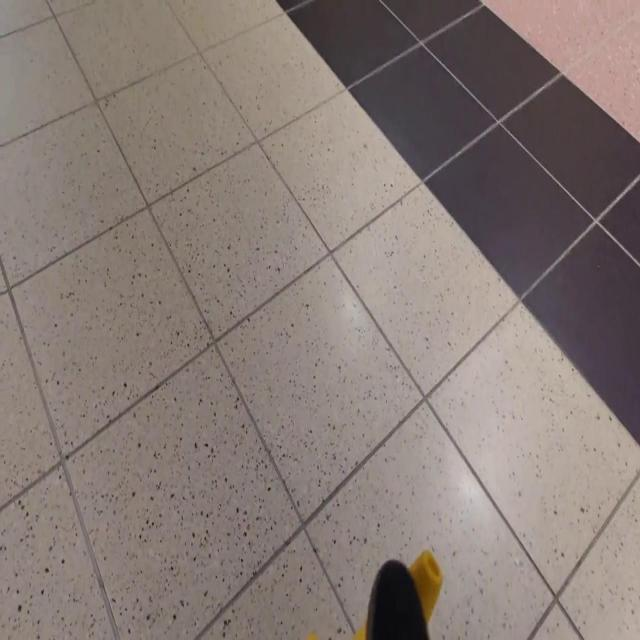frc_cone: (409, 550, 443, 625)
